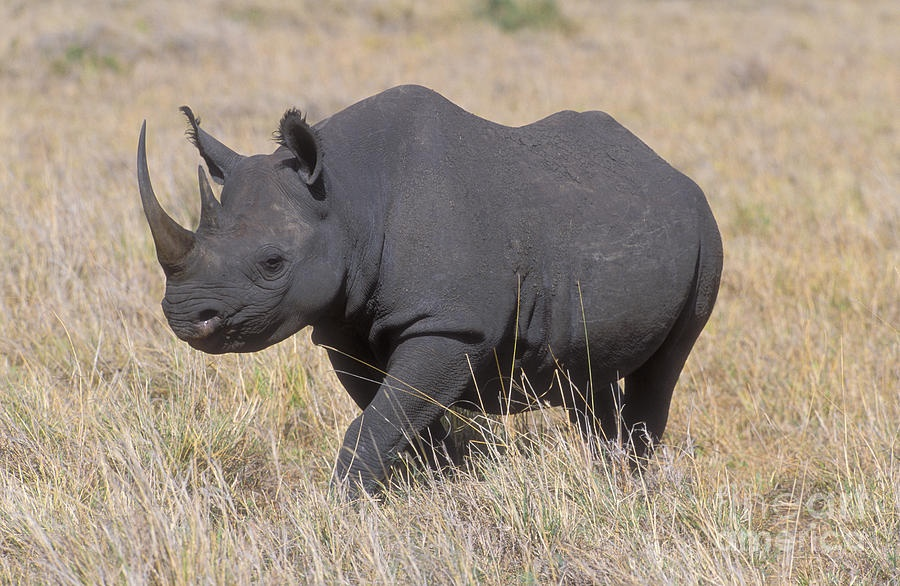rhino: (134, 80, 729, 498)
